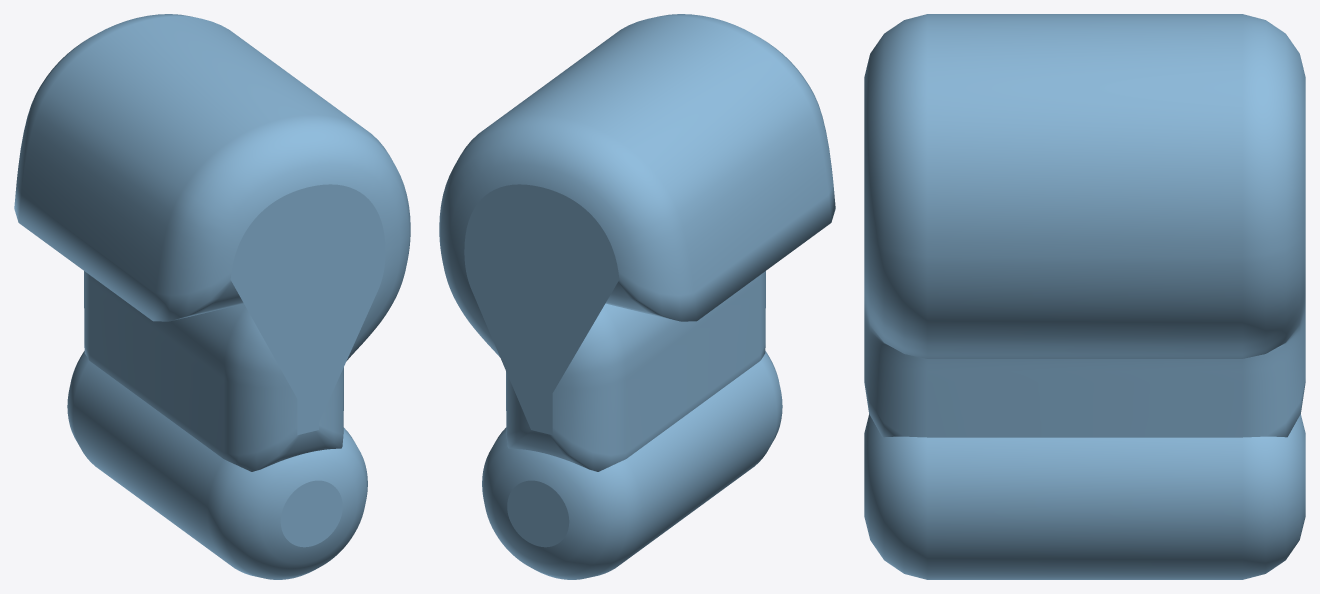
File: question mark.fbx
The picture shows the model from 3 angles, left to right: view 1: azimuth 30°, elevation 25°; view 2: azimuth 150°, elevation 25°; view 3: azimuth 270°, elevation 25°; orthographic projection. The views are drawn at different scales.
Visible parts, largest first — view 1: polySurface7; view 2: polySurface7; view 3: polySurface7.
Part boxes in pixels (left/top/right/bottom): polySurface7: left=14, top=14, right=410, bottom=579; polySurface7: left=439, top=14, right=835, bottom=579; polySurface7: left=864, top=14, right=1305, bottom=579.
Bounding box in the file's own units: 0.542 × 0.9389 × 0.7.
